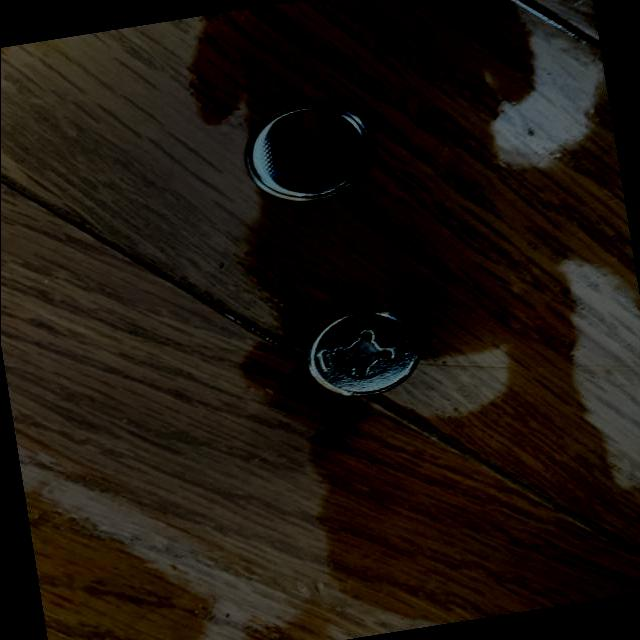COIN: (238, 94, 378, 210)
